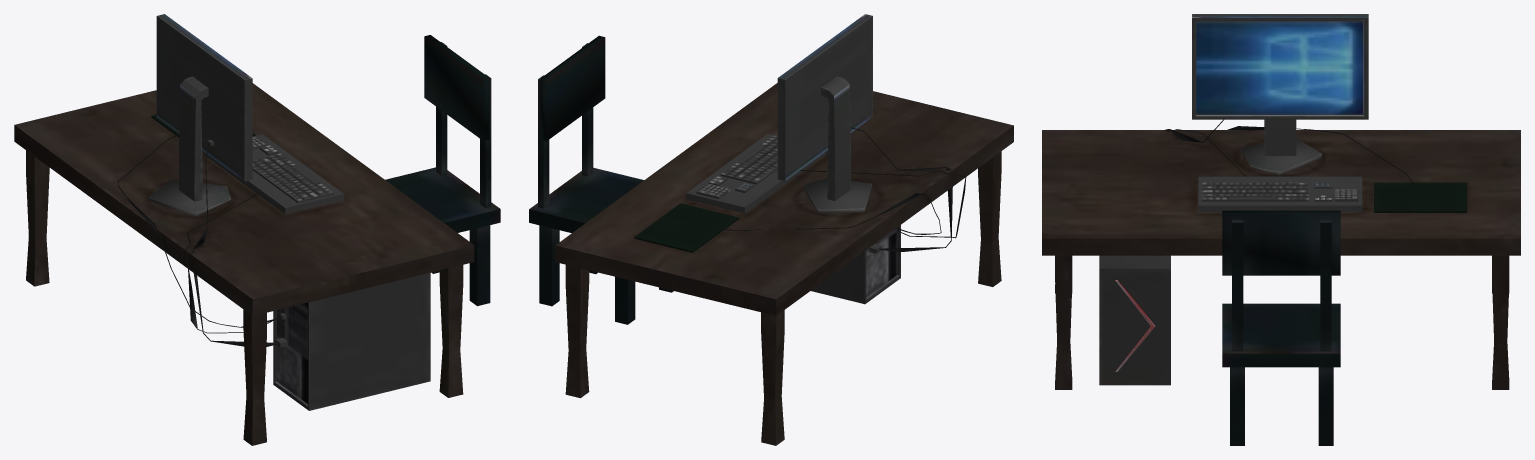
File: computer-desk.lod1.glb
The picture shows the model from 3 angles, left to right: view 1: azimuth 30°, elevation 25°; view 2: azimuth 150°, elevation 25°; view 3: azimuth 270°, elevation 25°; orthographic projection.
Visible parts, largest first — view 1: Cube.029_Material_0; view 2: Cube.029_Material_0; view 3: Cube.029_Material_0.
Boxes of the visible parts, <box> form: Cube.029_Material_0: <box>14,14,500,445</box>; Cube.029_Material_0: <box>529,14,1013,445</box>; Cube.029_Material_0: <box>1042,14,1520,445</box>.
Size of the model in its own units: 1.34 by 1.12 by 1.6.
Materials: 1 (1 with a texture image).
